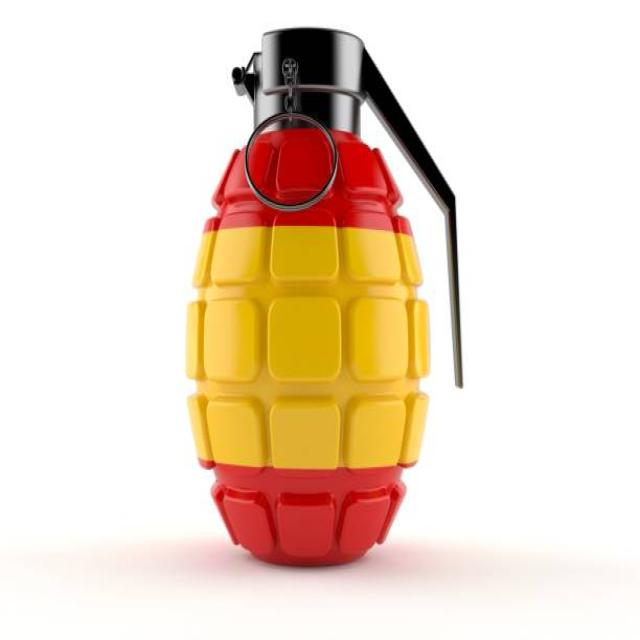grenade: (181, 18, 468, 581)
